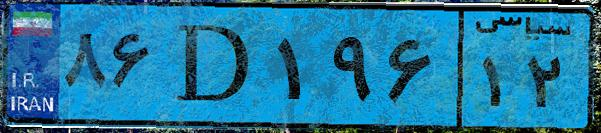1: (270, 28, 330, 110), (475, 38, 525, 113)
2: (525, 38, 570, 115)
6: (385, 28, 445, 110), (110, 28, 158, 98)
8: (57, 26, 110, 100)
9: (330, 28, 385, 110)
D: (158, 12, 270, 120)
